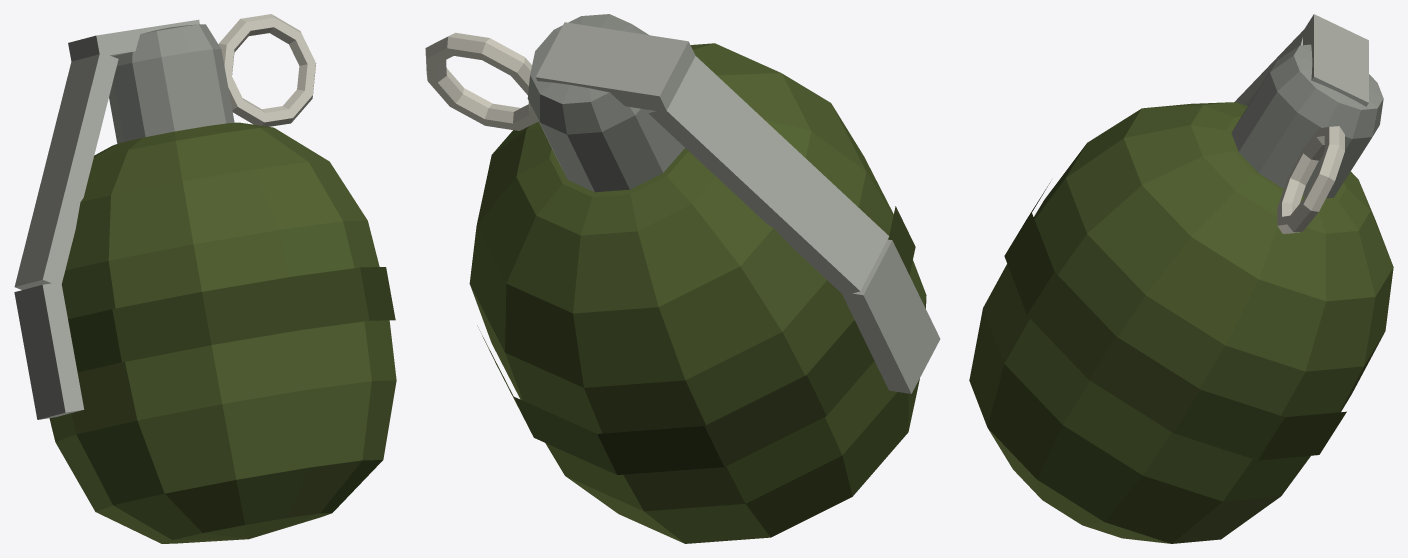
The model's file is grenade.glb.
3 views of the same model, side by side, from view 1: azimuth 30°, elevation 25°; view 2: azimuth 150°, elevation 25°; view 3: azimuth 270°, elevation 25° (orthographic). The views are drawn at different scales.
Visible parts, largest first — view 1: body; view 2: body; view 3: body.
Boxes of the visible parts, left/top/right/bottom form: body: left=14, top=14, right=396, bottom=543; body: left=425, top=14, right=940, bottom=543; body: left=969, top=14, right=1393, bottom=543.
Bounding box in the file's own units: 0.0725 × 0.0937 × 0.0743.
Materials: 1 (1 with a texture image).
